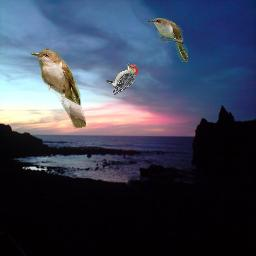Cuckoo: (30, 48, 86, 129), (147, 18, 188, 62)
Woodpecker: (106, 63, 138, 95)
